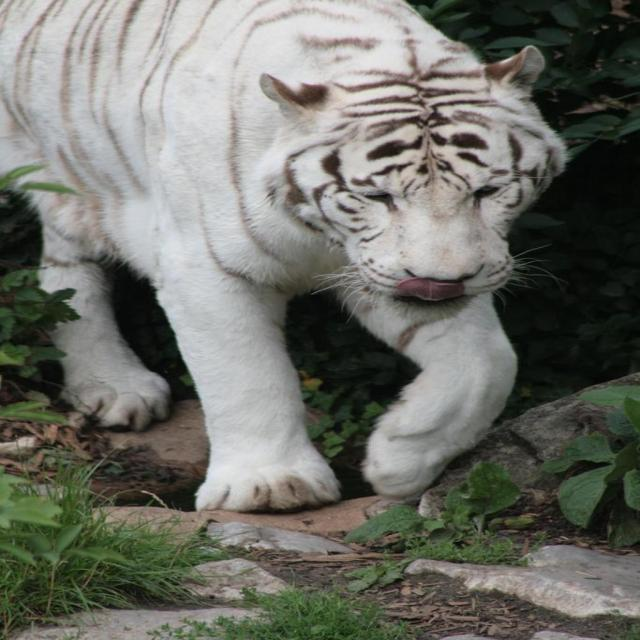Tiger: (0, 0, 563, 510)
